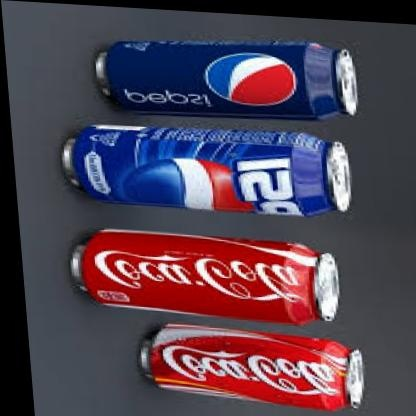trash: (62, 126, 350, 215), (70, 230, 338, 323), (96, 41, 357, 118), (139, 324, 363, 409)
